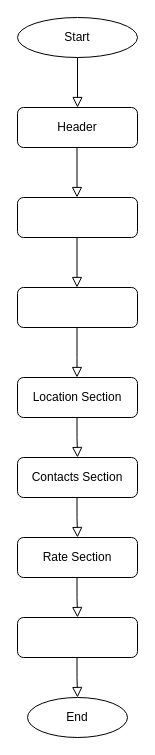
Some shapes in this 155 by 755 pixel diagram are drawn without their labels. Here are the shapes that lost their labels. From the top down, the centre of each, then its label:
point (77, 217): Home Section
point (77, 307): Products Section
point (77, 637): Footer
